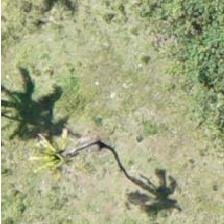coconut_tree: (6, 121, 96, 211)
